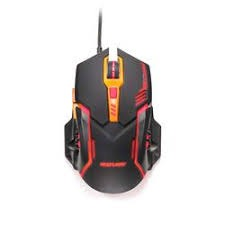mouse: (57, 37, 167, 199)
